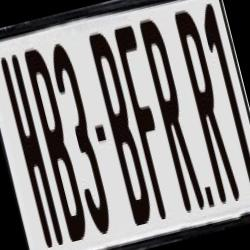1: (197, 0, 250, 193)
3: (44, 36, 111, 232)
B: (85, 27, 156, 234), (22, 47, 94, 250)
F: (111, 21, 178, 217)
H: (0, 46, 64, 245)
R: (172, 5, 242, 208), (136, 9, 206, 209)
